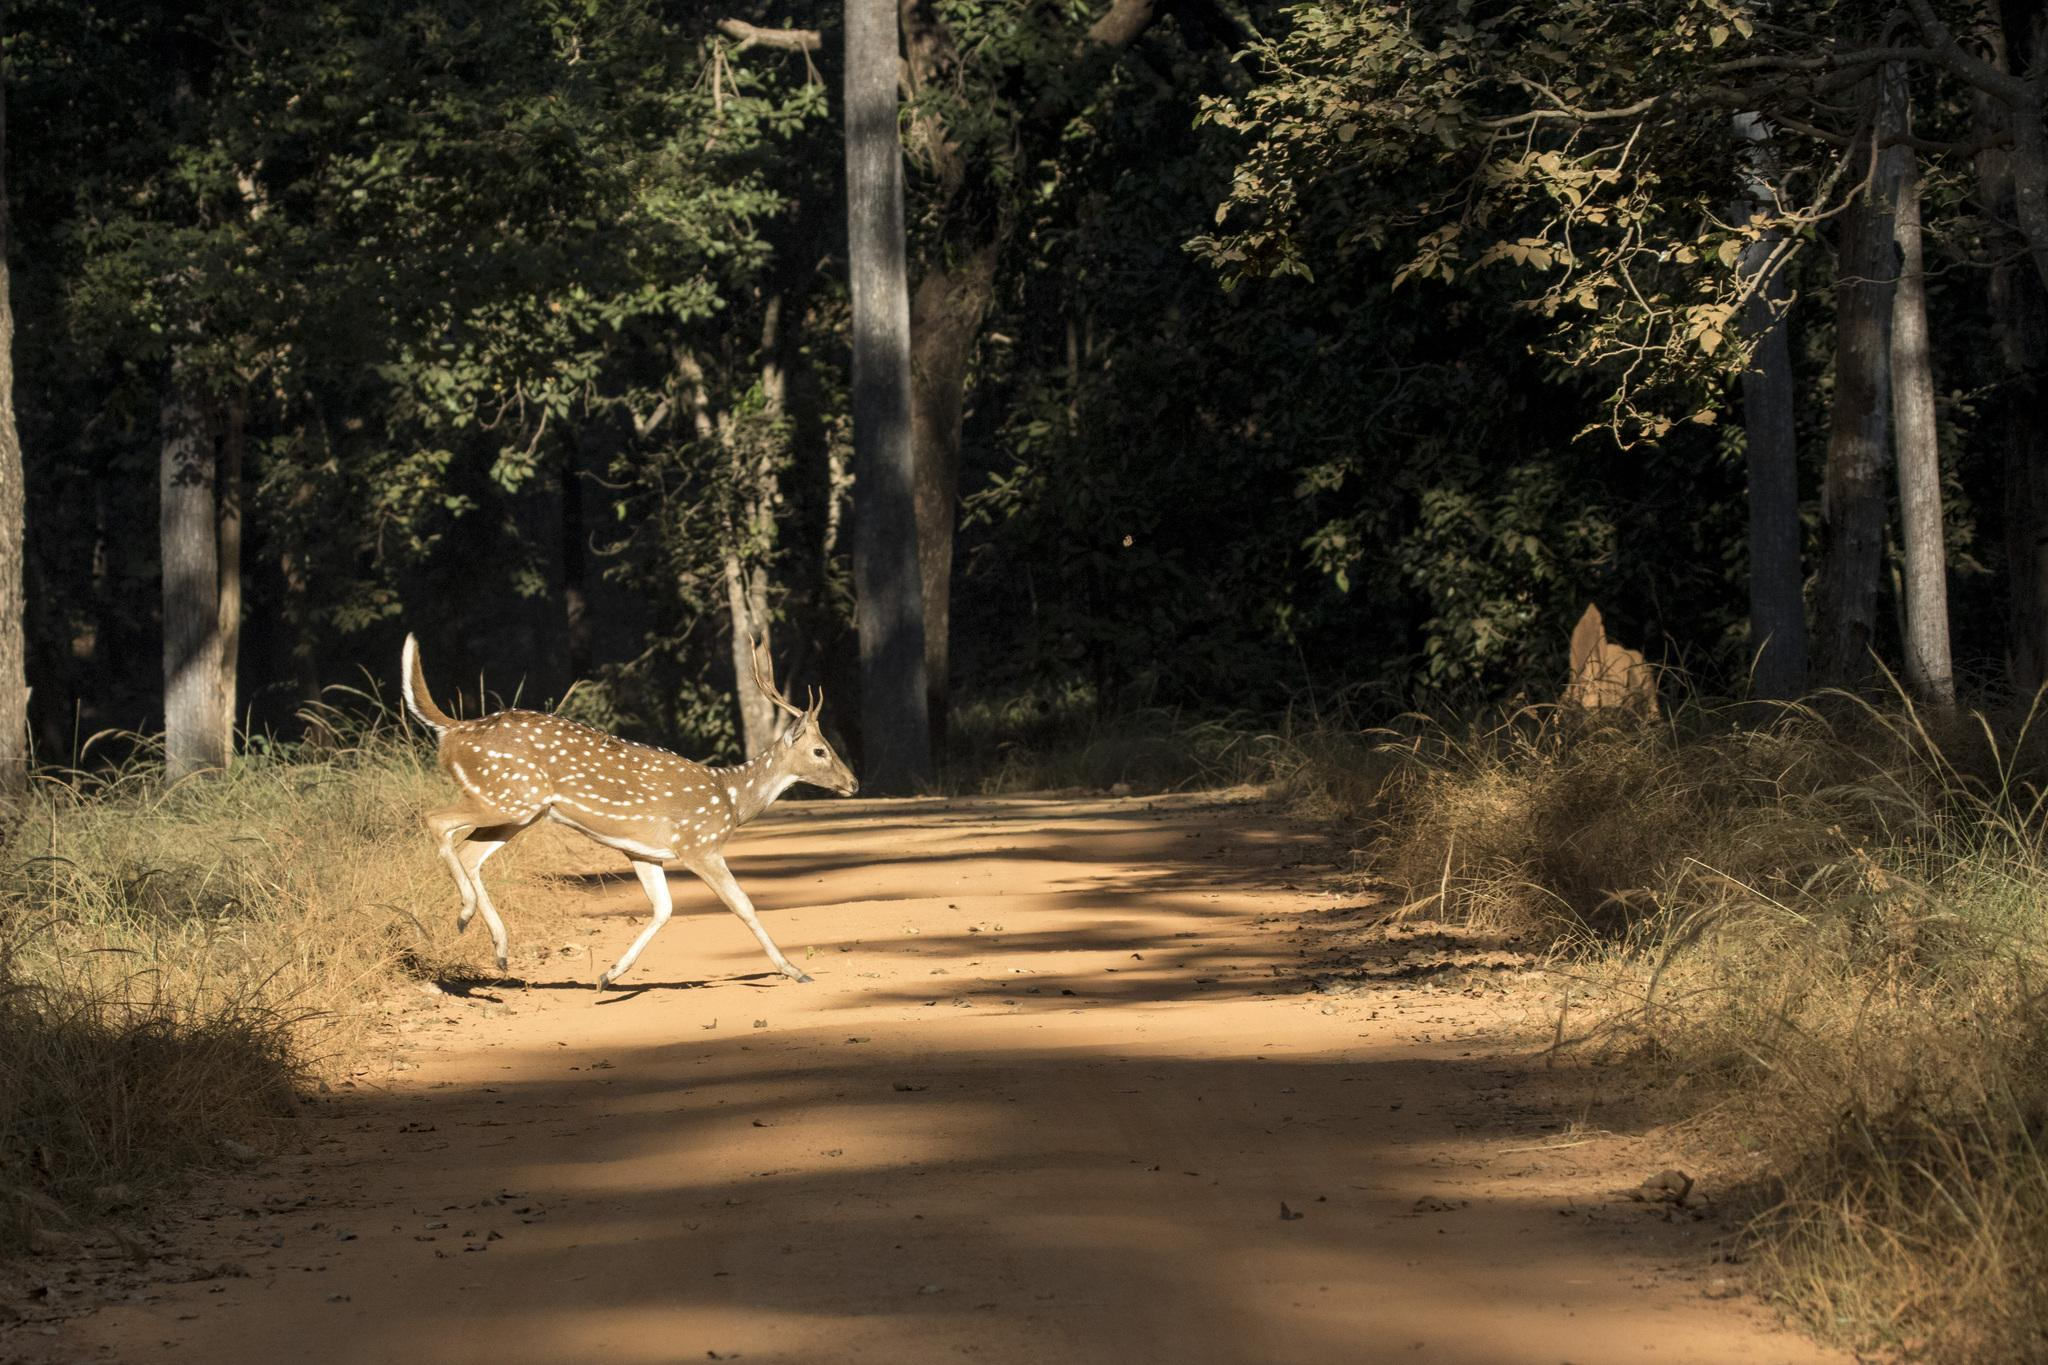Deer: (402, 632, 856, 989)
